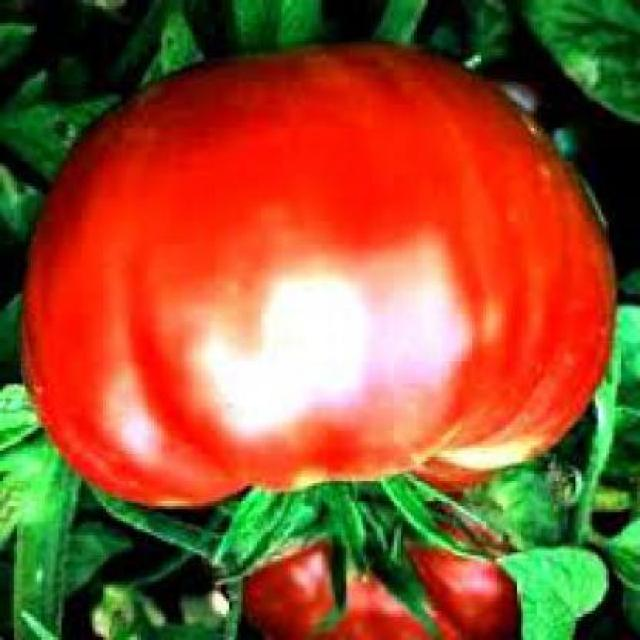BIODEGRADABLE: (23, 50, 623, 521), (247, 506, 536, 639)
